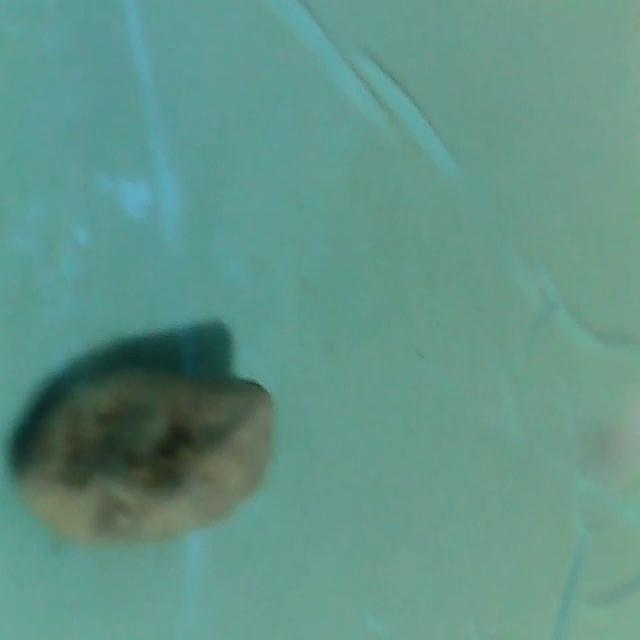rock: (12, 364, 282, 556)
